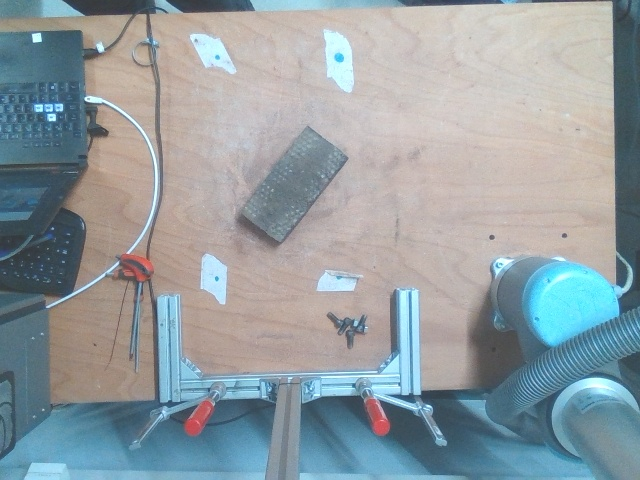brick: (238, 124, 345, 242)
